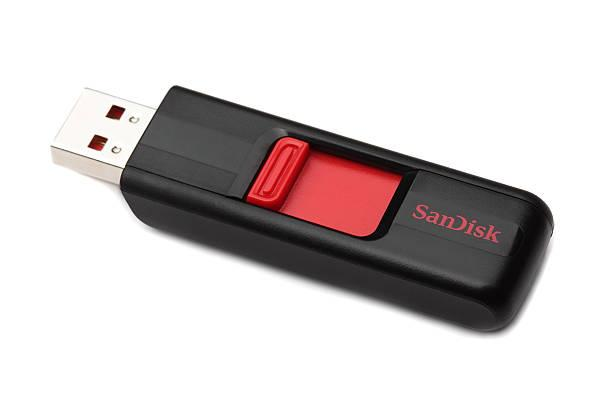USB Flash Drive: (50, 86, 553, 334)
